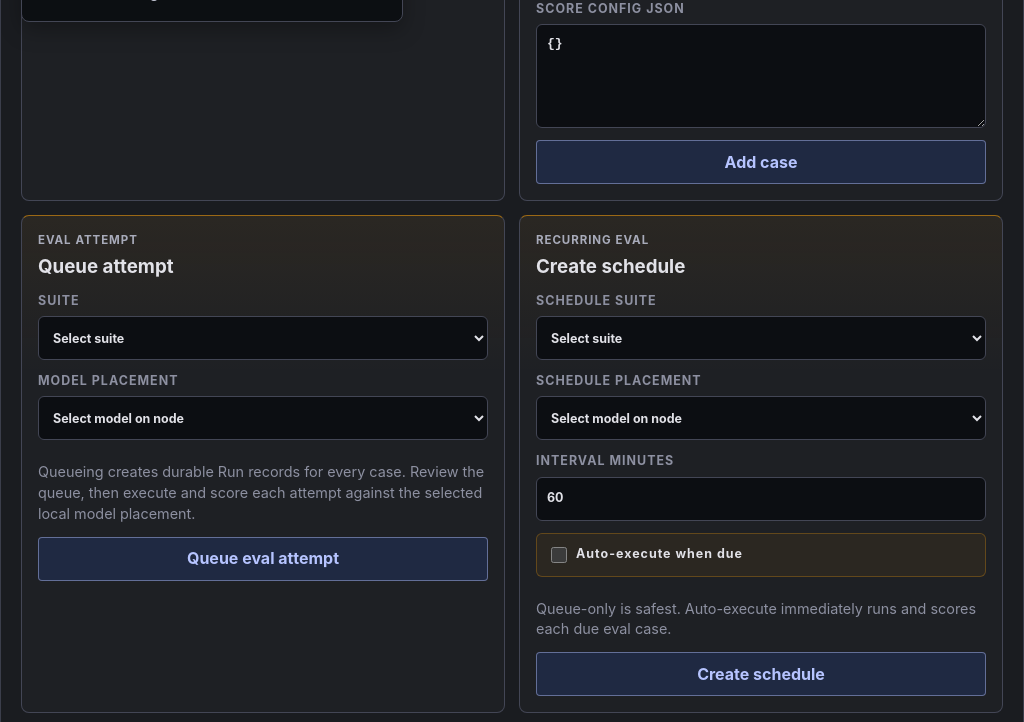
Test case: EvalsPage › creates a recurring eval schedule
(page scrolled)
Select "Reasoning Smoke" in the dropdown labelled "Schedule suite" at (761, 338), box [536,316,986,360]
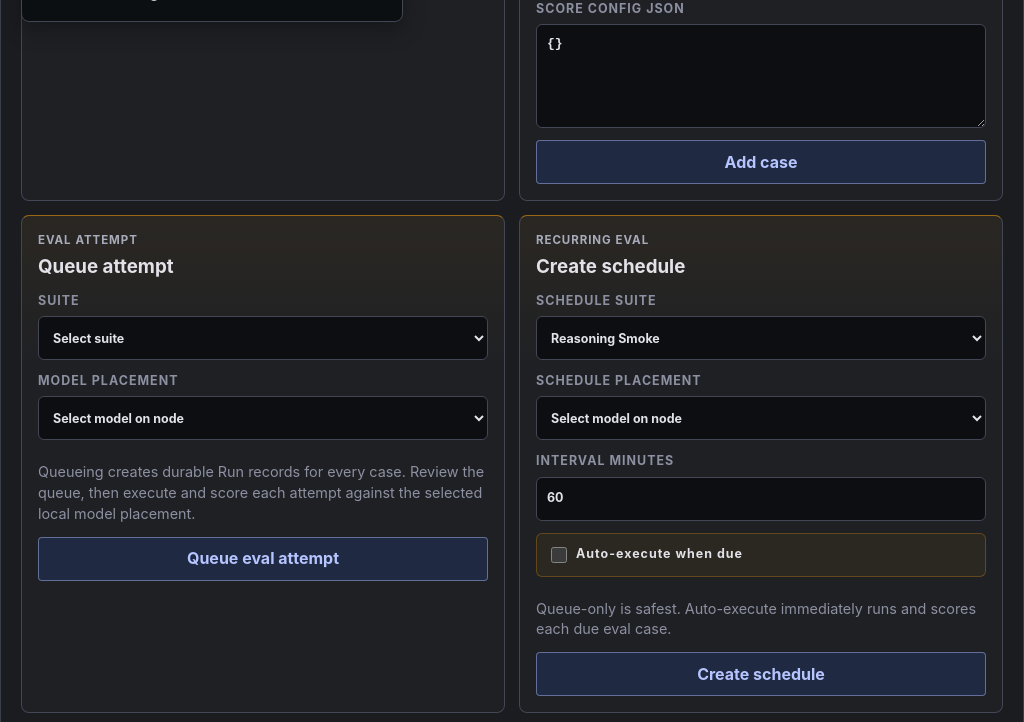
Select "llama3.2:latest on control-plane" in the dropdown labelled "Schedule placement" at (761, 418), box [536,396,986,440]
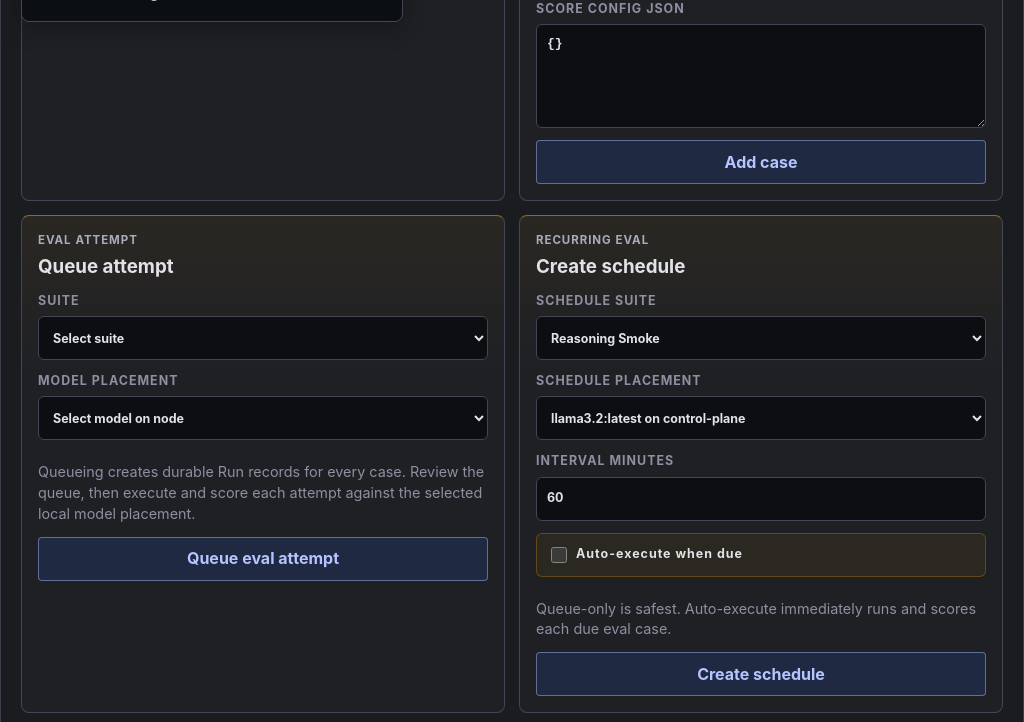
Replace the text in the number field labelled "Interval minutes" with "30" at (761, 498), box [536,476,986,520]
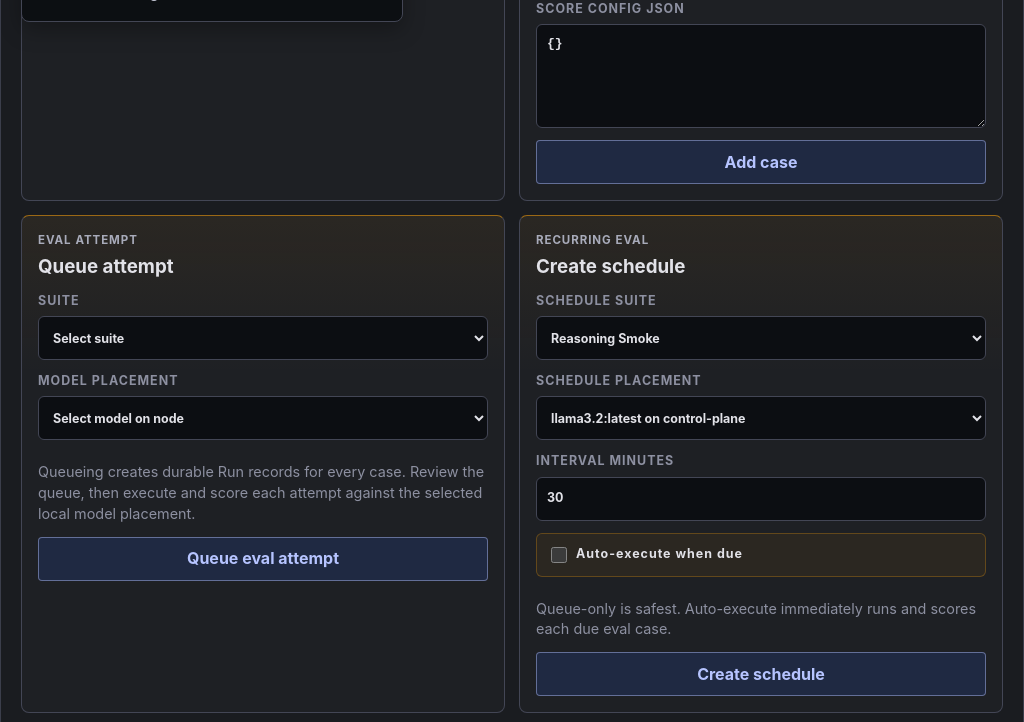
Click the checkbox labelled "Auto-execute when due" at (559, 554), box [551,546,567,562]
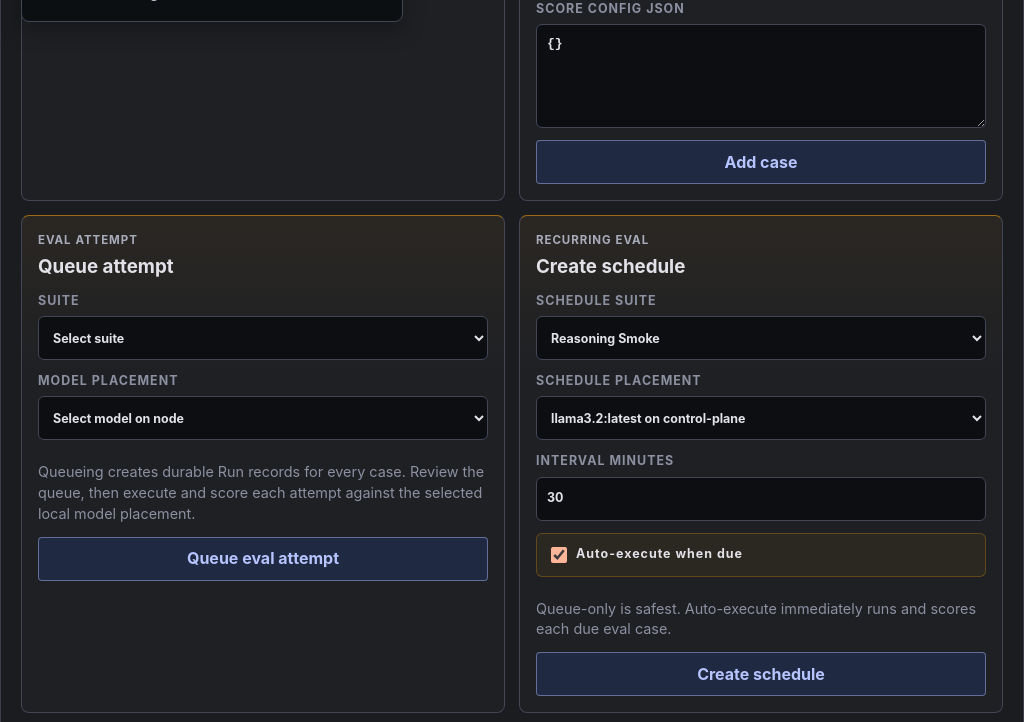
Click the button "Create schedule" at (761, 674), box [536,652,986,696]
(page scrolled)
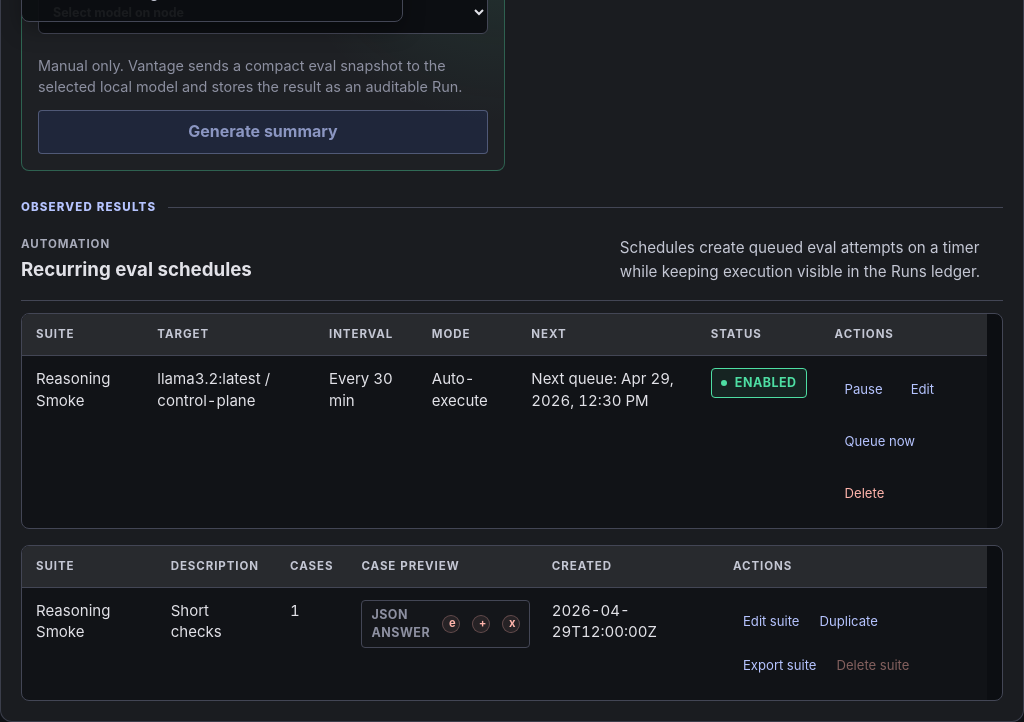
Now the heading "Recurring eval schedules" is shown, box [21,258,252,281]
Now the text "Every 30 min" is shown, box [315,355,418,528]
Now the text "Auto-execute" is shown, box [418,355,517,528]
Click the button "Queue now" at (880, 442), box [835,420,925,464]
(page scrolled)
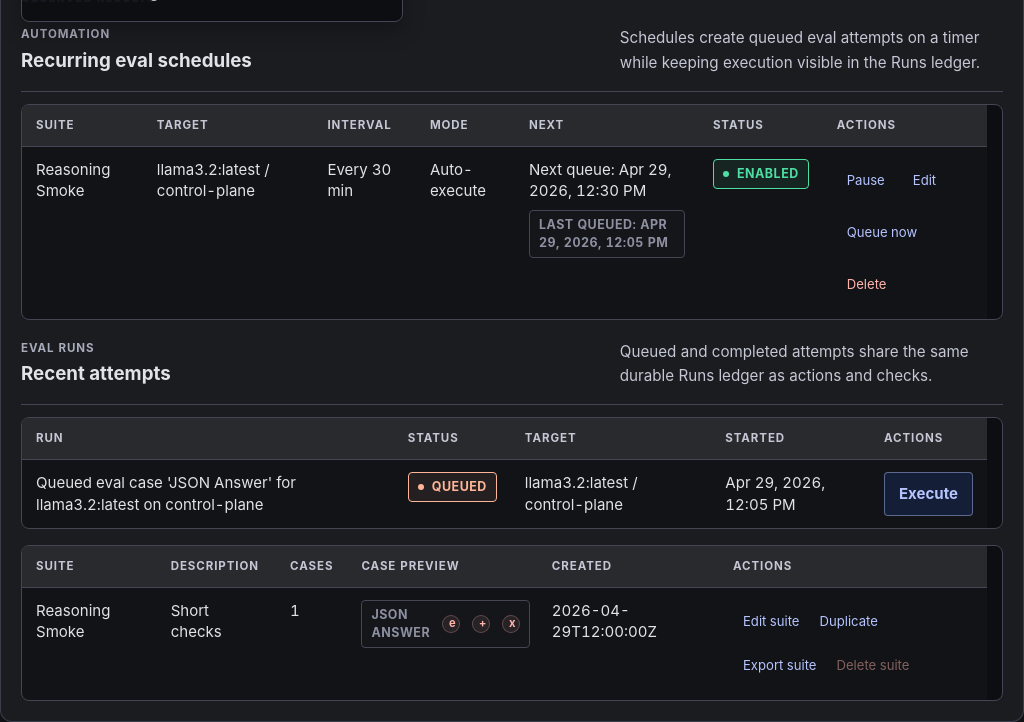
Now the text "Queued eval case 'JSON Answer'" is shown, box [36,473,296,514]
